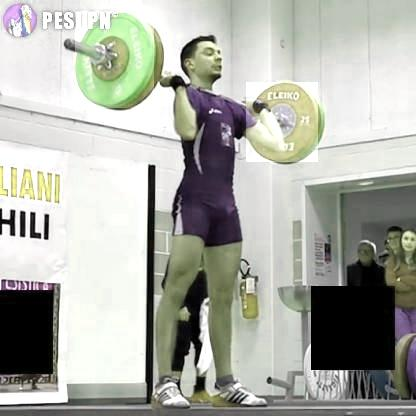barbell: (75, 12, 154, 108), (248, 83, 320, 163)
